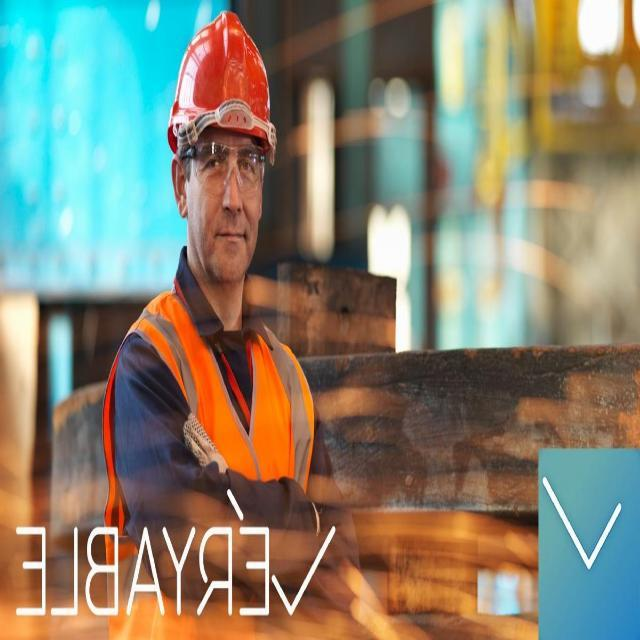reflective_jacket: (100, 283, 319, 611)
safety_helmet: (163, 5, 280, 158)
